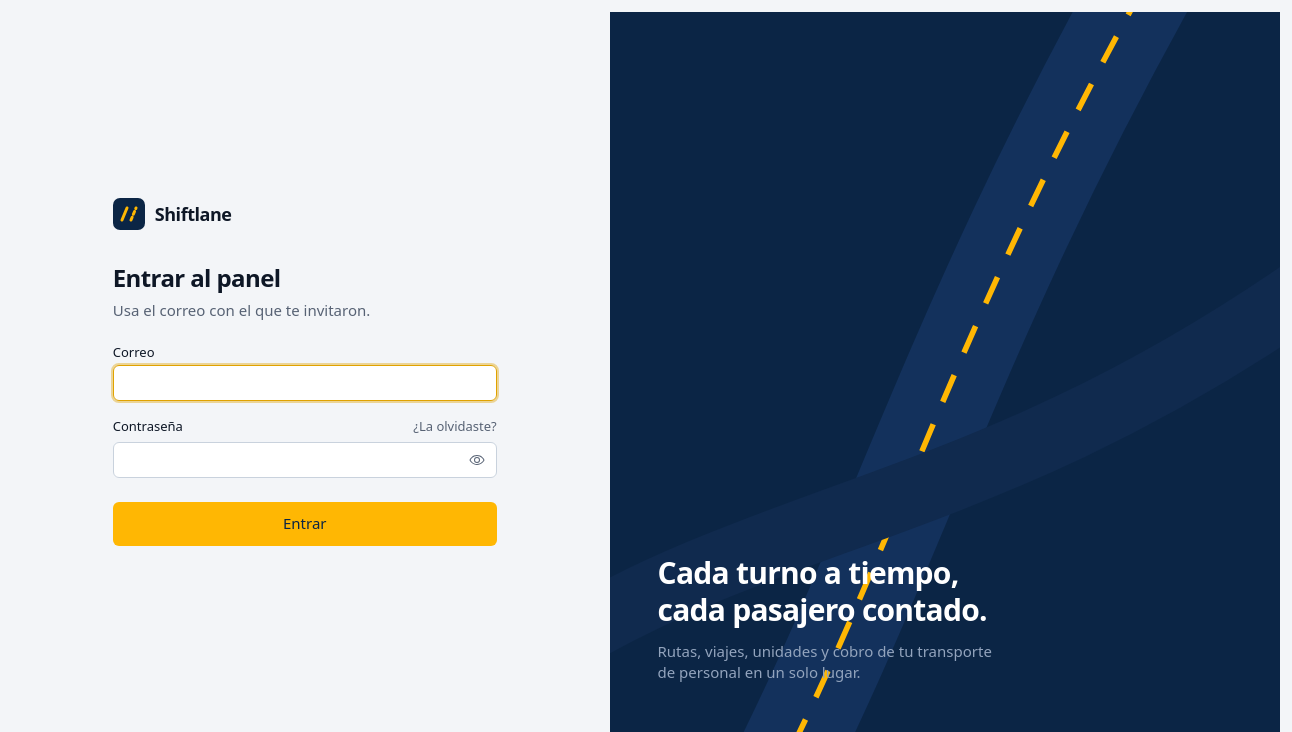
acceso al panel › sin sesión lleva a entrar y valida el formulario en español
Expected: the heading "Entrar al panel" is shown, [113,261,280,294]
Click the button "Entrar". click: (305,524)
box: [113,502,497,546]
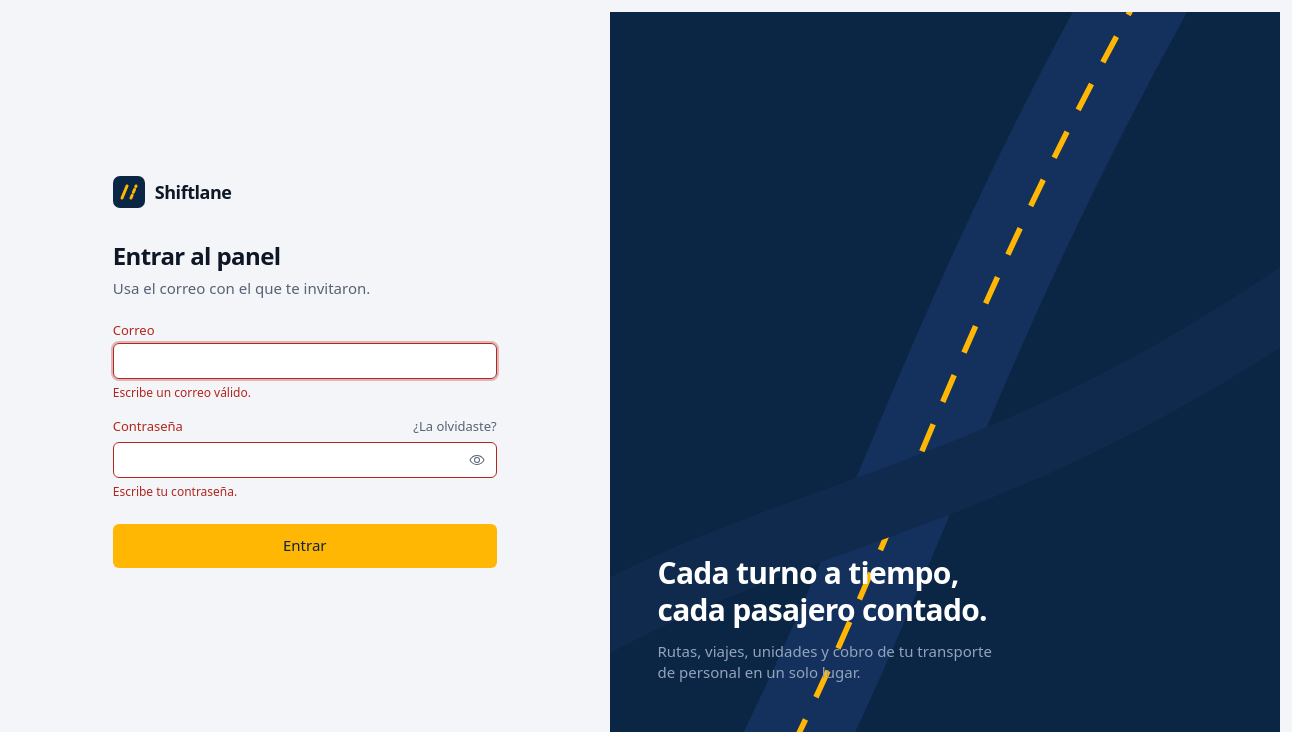
Now the text "Escribe un correo válido." is shown, box [113,384,251,401]
Now the text "Escribe tu contraseña." is shown, box [113,483,237,500]
